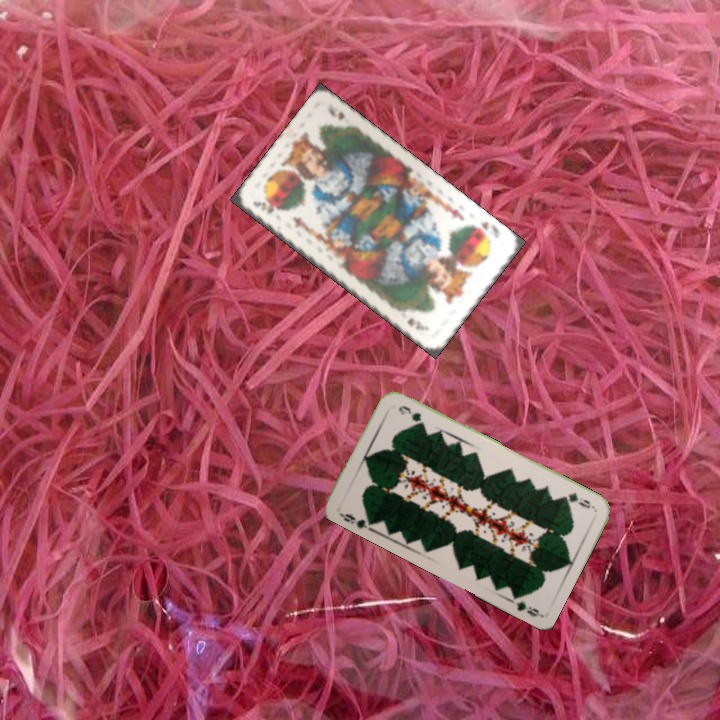G9: (335, 509, 376, 533), (557, 488, 597, 511)
SK: (477, 217, 502, 241), (249, 196, 276, 216)
